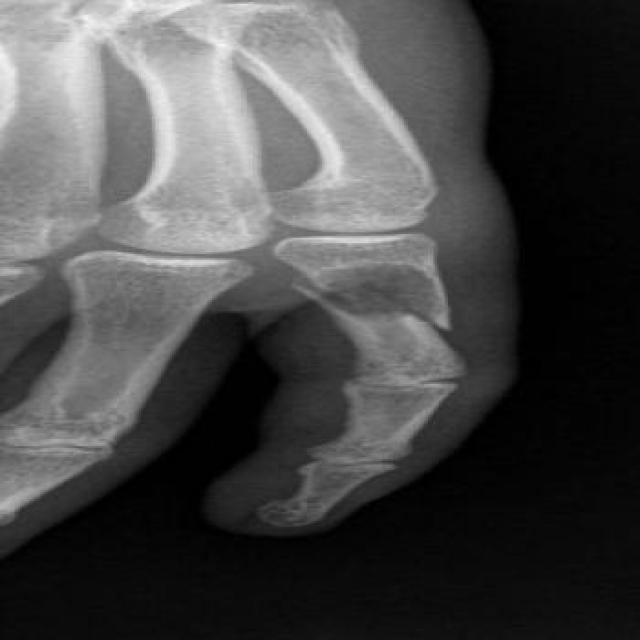fracture: (276, 259, 488, 337)
